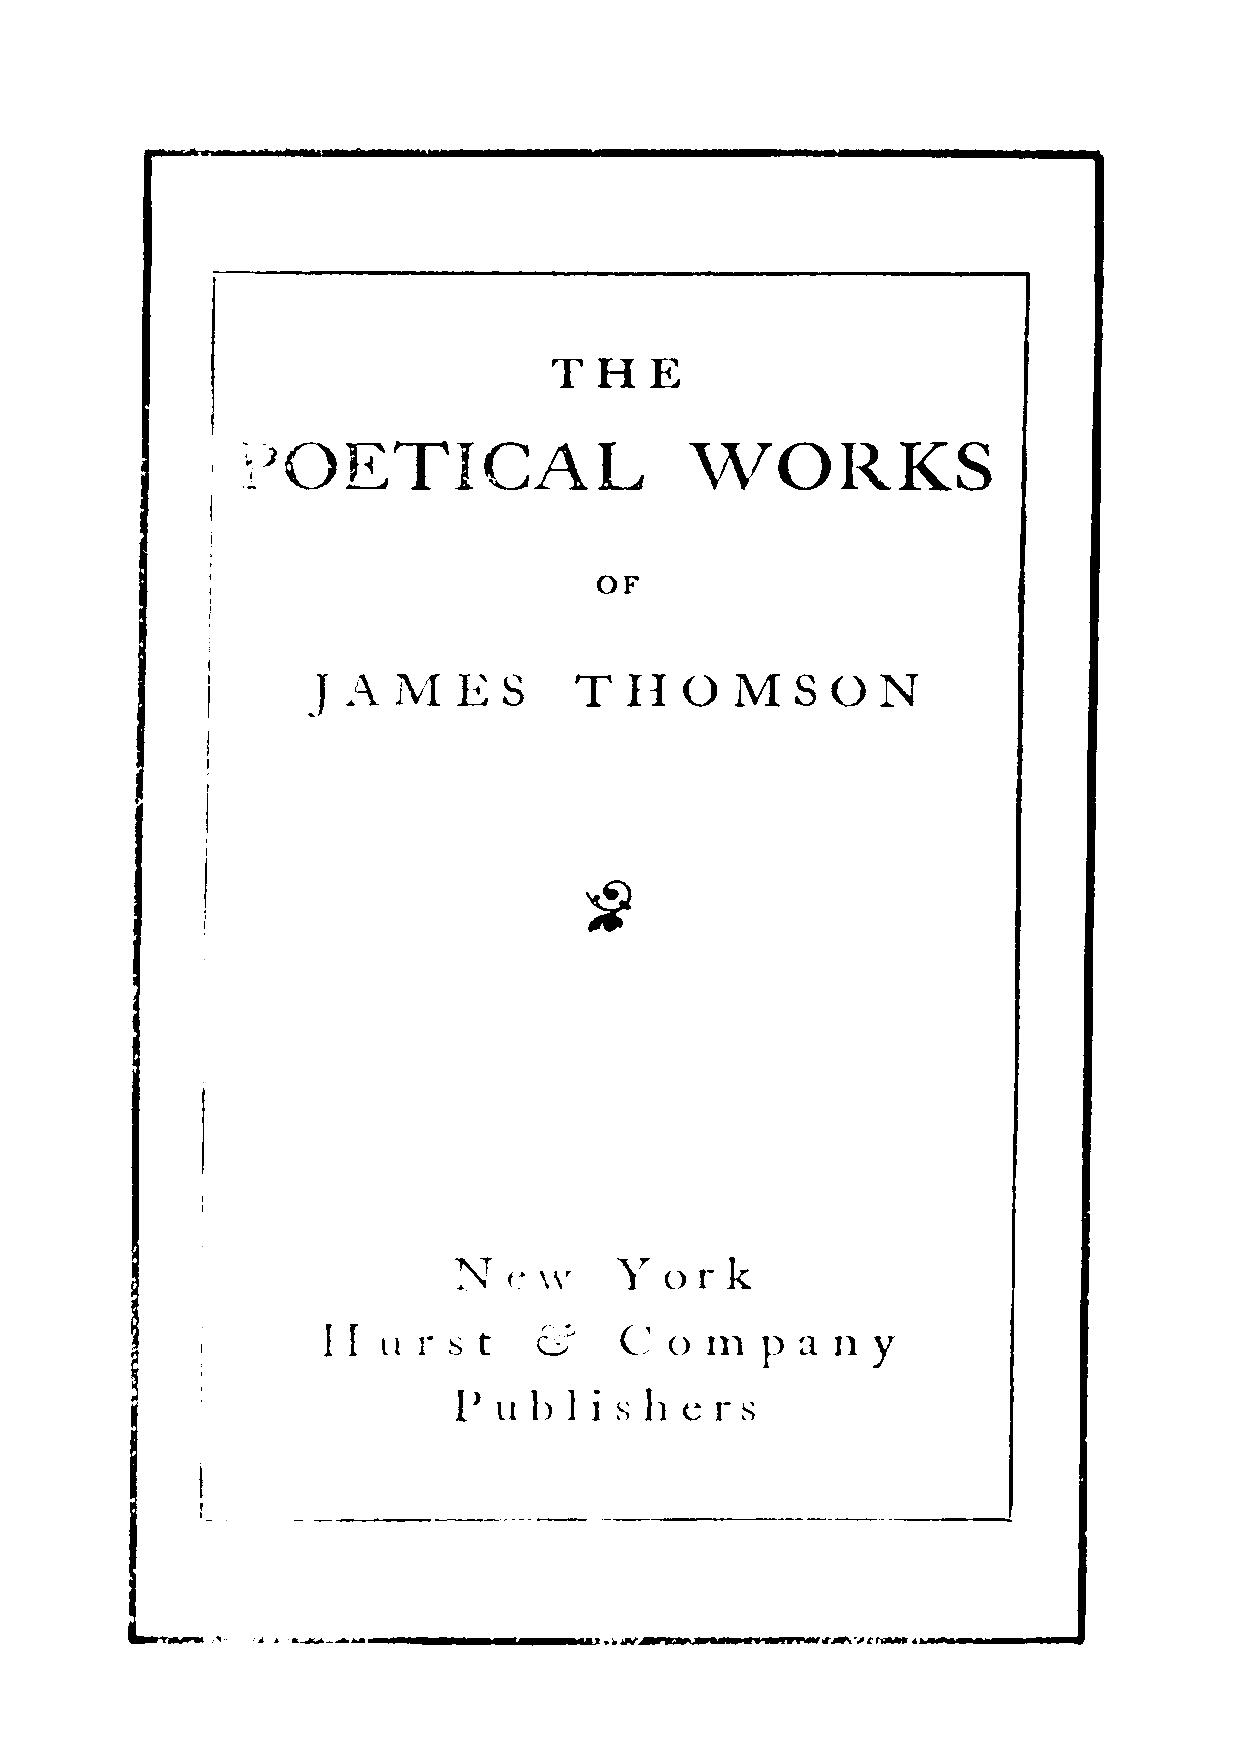title: (240, 356, 993, 721)
